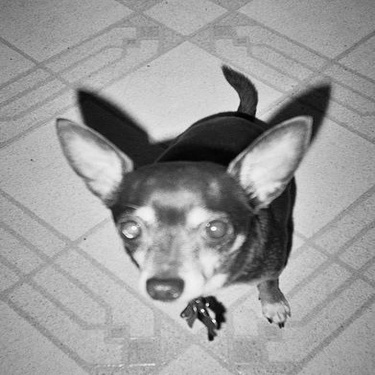dog: (44, 55, 318, 335)
